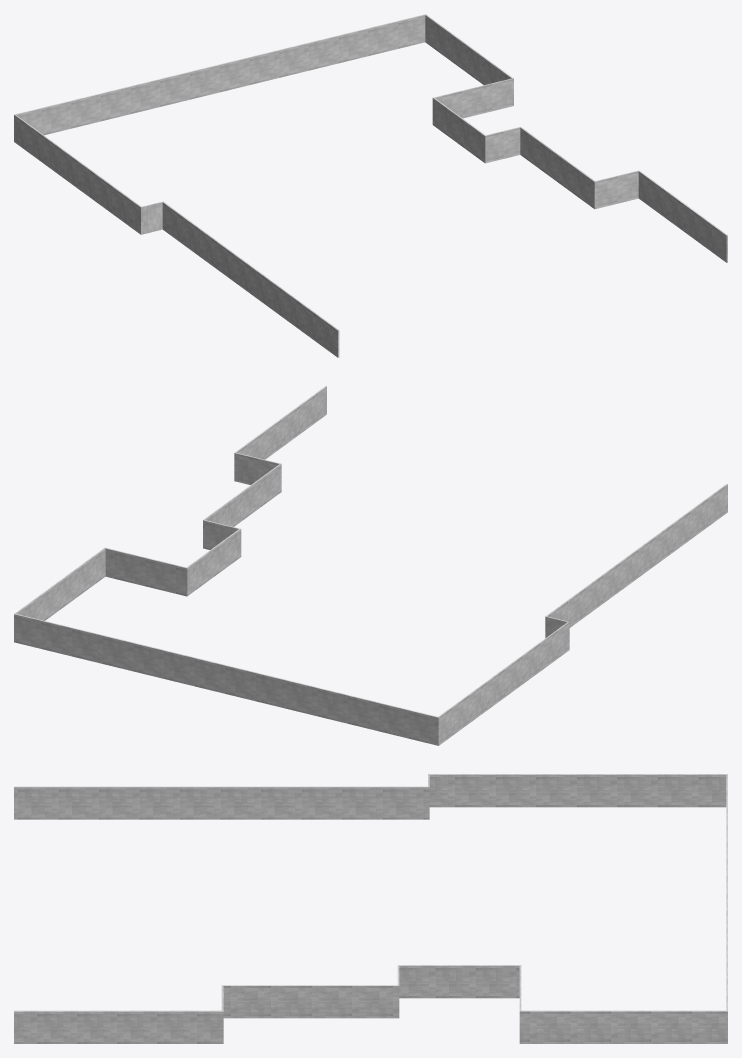
The model's file is MCHouse-WallOutside.fbx.
3 renders of one model, top to bottom at view 1: azimuth 30°, elevation 25°; view 2: azimuth 150°, elevation 25°; view 3: azimuth 270°, elevation 25°, orthographic. The views are drawn at different scales.
Parts seen in each view (by area): view 1: MCHouse-WallOutside; view 2: MCHouse-WallOutside; view 3: MCHouse-WallOutside.
Part boxes in pixels (bbox=[...]): MCHouse-WallOutside: bbox=[14, 14, 727, 357]; MCHouse-WallOutside: bbox=[14, 386, 727, 745]; MCHouse-WallOutside: bbox=[14, 774, 727, 1043].
Bounding box in the file's own units: 4730 × 300 × 6012.
